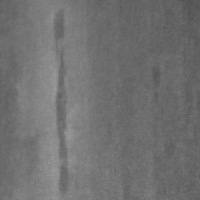inclusion: (1, 75, 34, 197), (50, 44, 75, 199), (48, 8, 70, 66), (147, 63, 166, 114)
